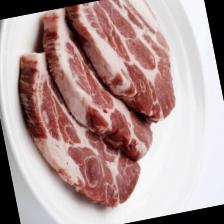meat: (10, 36, 146, 220), (36, 0, 157, 173), (65, 0, 183, 136)
